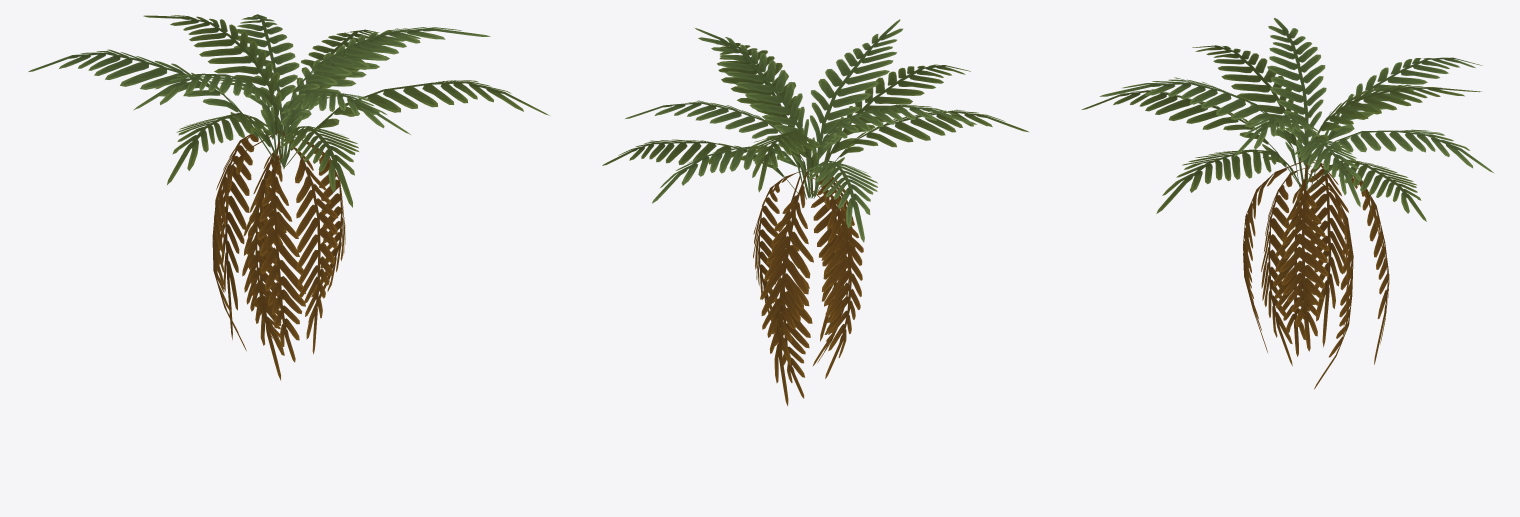
The model's file is enchanted_SM_Env_Fern_Tree_02.gltf.
3 views of the same model, side by side, from view 1: azimuth 30°, elevation 25°; view 2: azimuth 150°, elevation 25°; view 3: azimuth 270°, elevation 25° (orthographic). The views are drawn at different scales.
Parts seen in each view (by area): view 1: SM_Env_Fern_Tree_02_LOD0; view 2: SM_Env_Fern_Tree_02_LOD0; view 3: SM_Env_Fern_Tree_02_LOD0.
Part boxes in pixels (x1,y1,x2,y2): SM_Env_Fern_Tree_02_LOD0: [28, 14, 549, 380]; SM_Env_Fern_Tree_02_LOD0: [602, 19, 1028, 406]; SM_Env_Fern_Tree_02_LOD0: [1082, 18, 1494, 389].
Size of what is drawn, in the model's own units: 3.68 by 4.25 by 4.
Materials: 1 (1 with a texture image).
